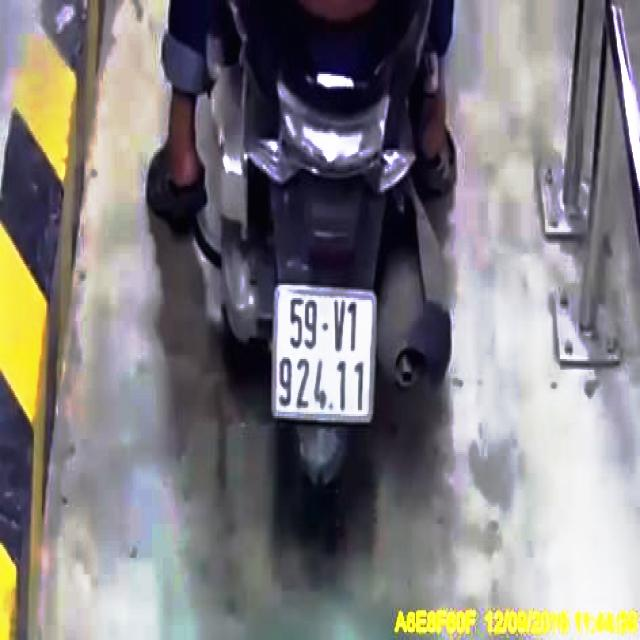license_plate: (277, 288, 375, 424)
